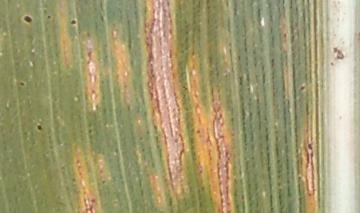tarspot: (21, 14, 34, 25), (298, 83, 307, 92), (18, 79, 26, 88), (36, 122, 43, 132), (70, 18, 77, 26), (46, 13, 52, 21)
